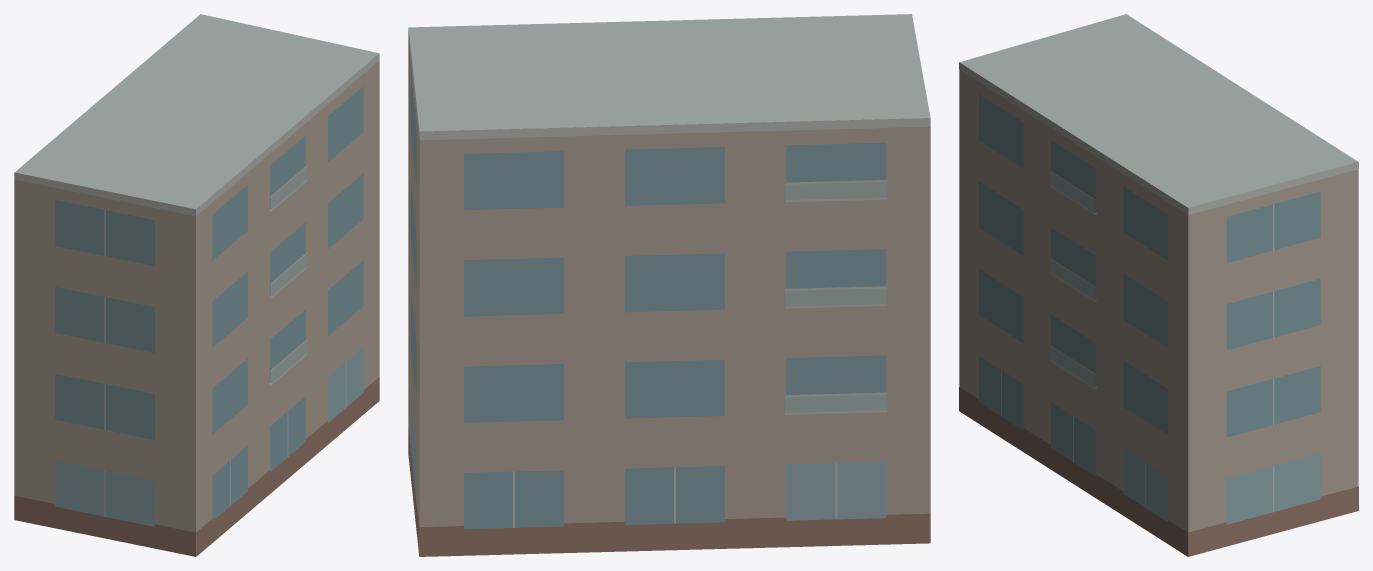
The model's file is survey-upis-32924532.glb.
3 renders of one model, left to right at view 1: azimuth 30°, elevation 25°; view 2: azimuth 150°, elevation 25°; view 3: azimuth 270°, elevation 25°, orthographic. The views are drawn at different scales.
Parts seen in each view (by area): view 1: survey-upis-32924532.tmp; view 2: survey-upis-32924532.tmp; view 3: survey-upis-32924532.tmp.
Boxes of the visible parts, left/top/right/bottom form: survey-upis-32924532.tmp: left=14, top=14, right=379, bottom=556; survey-upis-32924532.tmp: left=408, top=14, right=930, bottom=556; survey-upis-32924532.tmp: left=959, top=14, right=1358, bottom=556.
Size of the model in its own units: 14.14 by 11.85 by 12.31.
